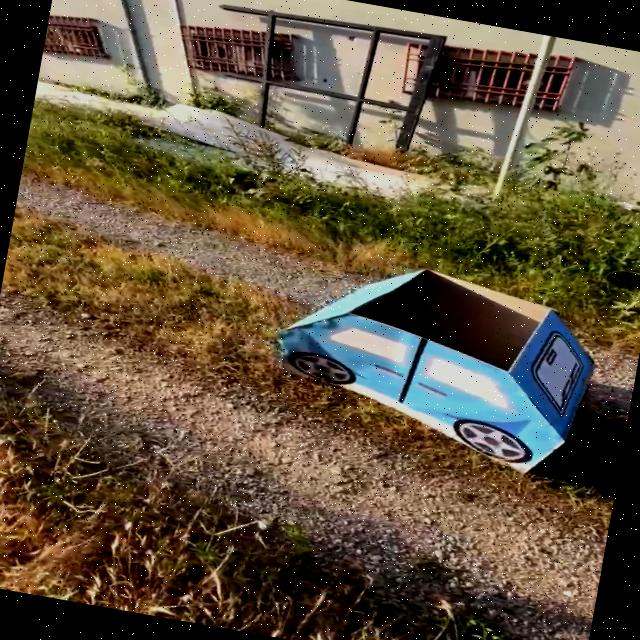blue_car: (207, 227, 631, 497)
